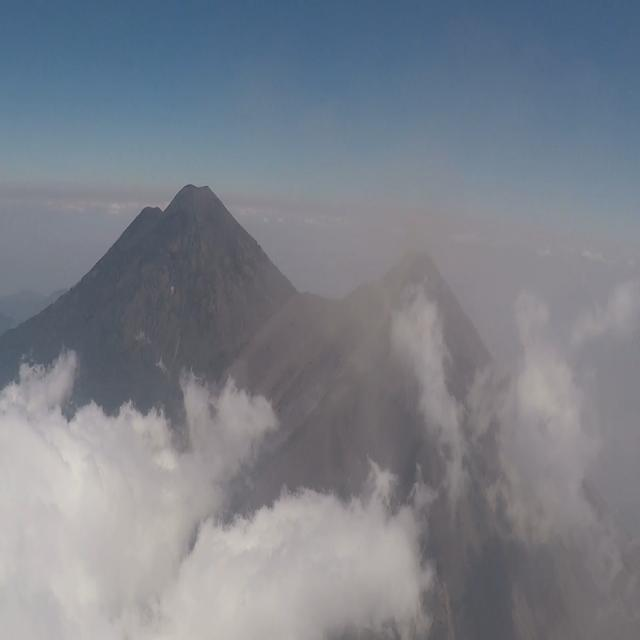Summit: (343, 242, 473, 344)
